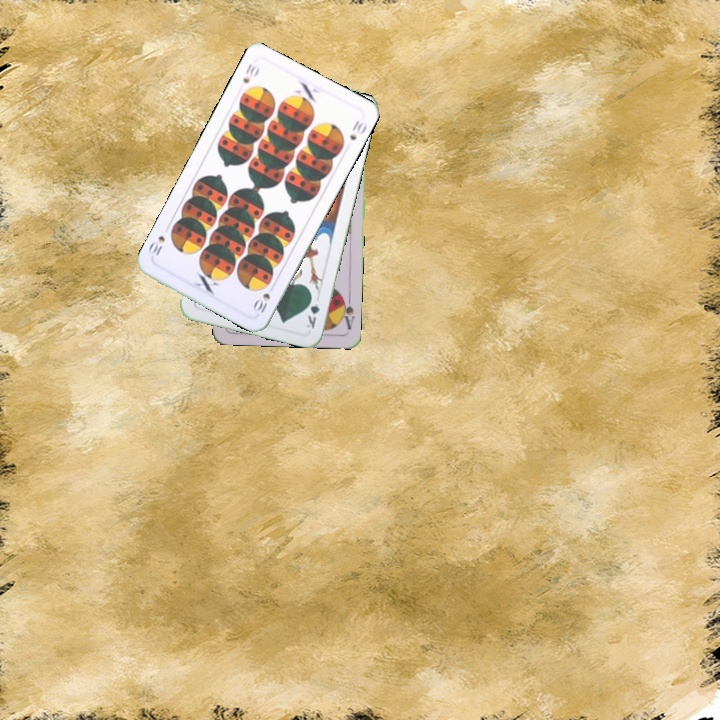GK: (301, 291, 322, 331)
S10: (250, 280, 278, 316), (239, 59, 262, 86)
SA: (337, 292, 357, 332)
